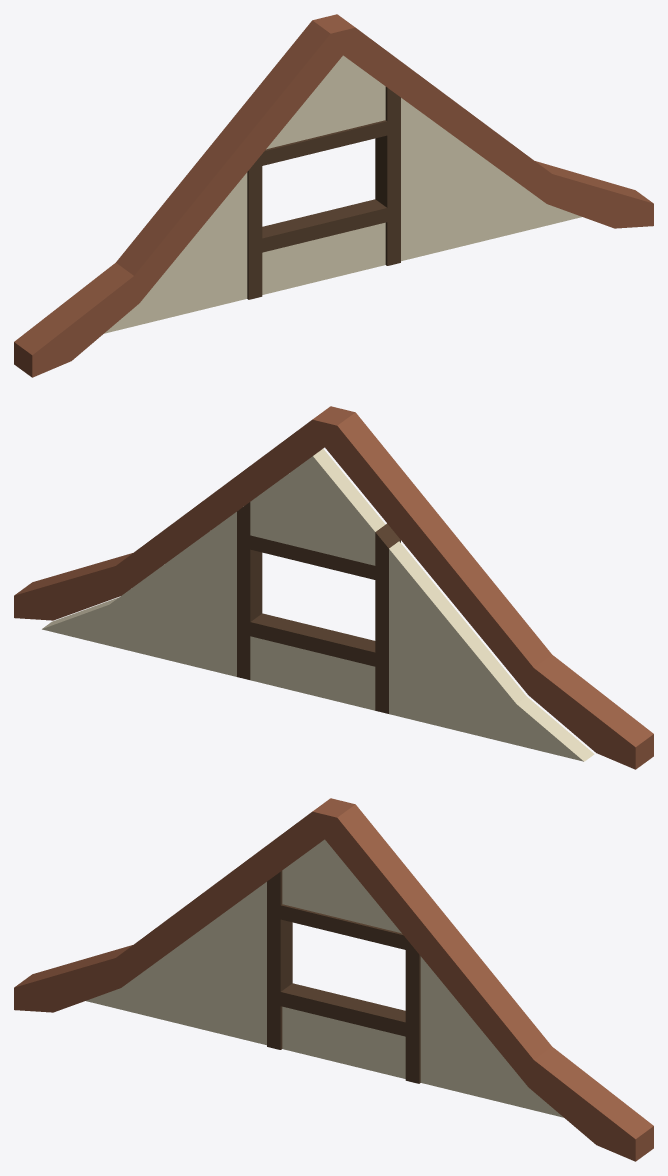
The model's file is hayloft_gable.glb.
3 renders of one model, top to bottom at view 1: azimuth 30°, elevation 25°; view 2: azimuth 150°, elevation 25°; view 3: azimuth 330°, elevation 25°, orthographic.
Visible parts, largest first — view 1: Hayloft gable; view 2: Hayloft gable; view 3: Hayloft gable.
Boxes of the visible parts, x1,y1,x2,y2 form: Hayloft gable: (14, 14, 653, 377); Hayloft gable: (14, 406, 653, 769); Hayloft gable: (14, 798, 653, 1161).
Size of the model in its own units: 2.29 by 0.955 by 0.193.
